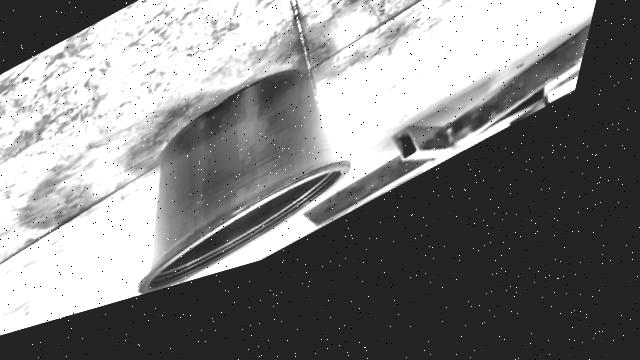pot: (138, 70, 350, 293)
